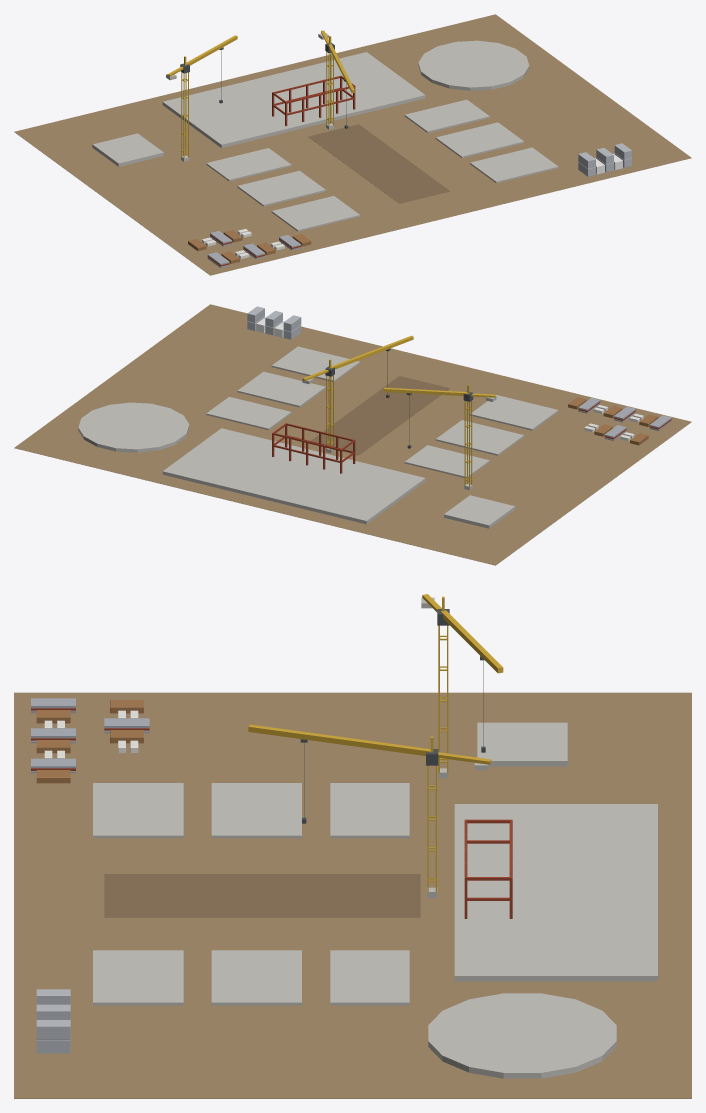
Rendered from mega_exposition_1.glb.
3 renders of one model, top to bottom at view 1: azimuth 30°, elevation 25°; view 2: azimuth 150°, elevation 25°; view 3: azimuth 270°, elevation 25°, orthographic. The views are drawn at different scales.
Visible parts, largest first — view 1: mega_exposition_1; view 2: mega_exposition_1; view 3: mega_exposition_1.
Boxes of the visible parts, bbox=[...] form: mega_exposition_1: bbox=[14, 14, 691, 275]; mega_exposition_1: bbox=[14, 304, 691, 565]; mega_exposition_1: bbox=[14, 594, 691, 1098].
Size of the model in its own units: 170 by 35 by 120.
